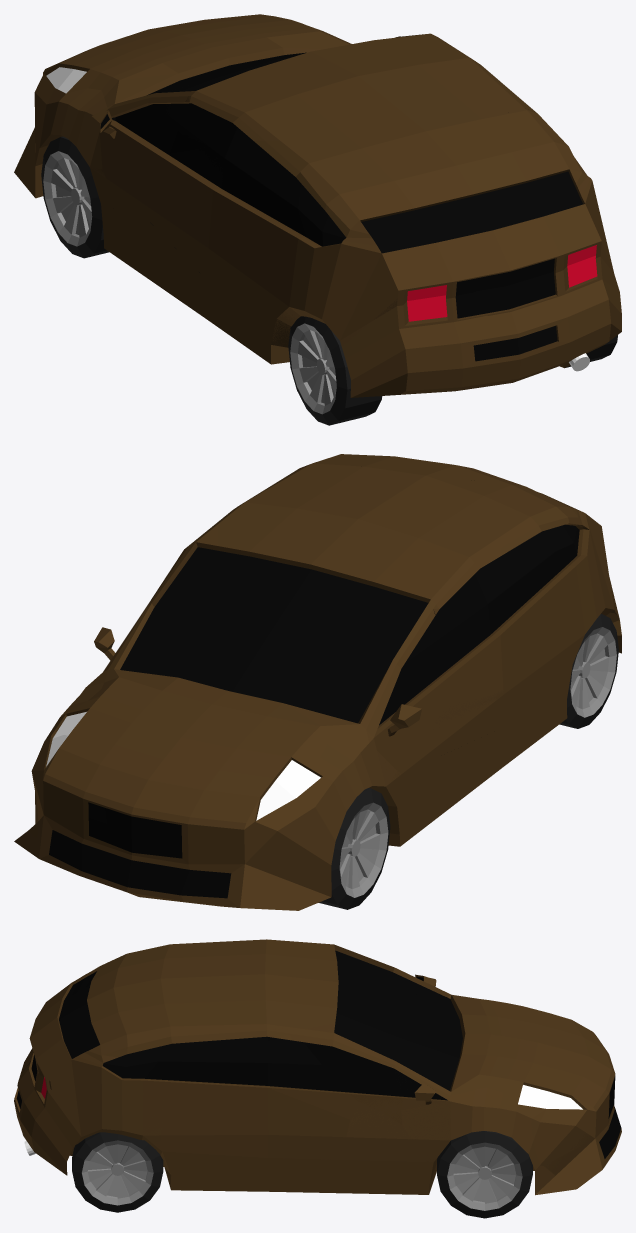
File: slowBroken.fbx
The picture shows the model from 3 angles, top to bottom: view 1: azimuth 30°, elevation 25°; view 2: azimuth 150°, elevation 25°; view 3: azimuth 270°, elevation 25°; orthographic projection. The views are drawn at different scales.
Parts seen in each view (by area): view 1: Cube.012, Cube.012_cell.005, Cube.012_cell.007, Cube.012_cell.015, Cube.012_cell.016, Cube.002, Cube.003, Cube.012_cell.009, Cube.012_cell.017, Cube.012_cell.011, Cube.012_cell.018; view 2: Cube.012, Cube.012_cell.005, Cube.012_cell.015, Cube.012_cell.002, Cube.012_cell.009, Cube.003, Cube.012_cell.011, Cube.002, Cube.012_cell.018, Cube.012_cell, Cube.012_cell.016; view 3: Cube.012, Cube.012_cell.005, Cube.004, Cube.005, Cube.012_cell.002, Cube.012_cell.008, Cube.012_cell.009, Cube.012_cell, Cube.012_cell.013, Cube.012_cell.017, Cube.012_cell.016, Cube.012_cell.018 (+1 smaller).
Boxes of the visible parts, <box> form: Cube.012: <box>34,16,621,397</box>; Cube.012_cell.005: <box>14,16,351,232</box>; Cube.012_cell.007: <box>344,292,518,397</box>; Cube.012_cell.015: <box>128,140,412,345</box>; Cube.012_cell.016: <box>388,110,581,296</box>; Cube.002: <box>288,316,382,425</box>; Cube.003: <box>41,136,109,258</box>; Cube.012_cell.009: <box>170,36,533,153</box>; Cube.012_cell.017: <box>476,163,621,378</box>; Cube.012_cell.011: <box>106,205,279,363</box>; Cube.012_cell.018: <box>105,79,213,156</box>; Cube.012: <box>29,454,621,910</box>; Cube.012_cell.005: <box>28,565,411,910</box>; Cube.012_cell.015: <box>423,479,615,763</box>; Cube.012_cell.002: <box>14,729,100,870</box>; Cube.012_cell.009: <box>218,465,501,681</box>; Cube.003: <box>318,788,390,909</box>; Cube.012_cell.011: <box>402,703,565,831</box>; Cube.002: <box>559,614,618,728</box>; Cube.012_cell.018: <box>331,609,440,742</box>; Cube.012_cell: <box>146,523,220,607</box>; Cube.012_cell.016: <box>313,454,525,486</box>; Cube.012: <box>14,939,621,1194</box>; Cube.012_cell.005: <box>346,993,616,1195</box>; Cube.004: <box>437,1131,532,1218</box>; Cube.005: <box>72,1132,163,1212</box>; Cube.012_cell.002: <box>531,1082,613,1192</box>; Cube.012_cell.008: <box>162,1035,350,1192</box>; Cube.012_cell.009: <box>163,944,378,1060</box>; Cube.012_cell: <box>290,1023,402,1124</box>; Cube.012_cell.013: <box>318,1092,432,1194</box>; Cube.012_cell.017: <box>15,1049,170,1175</box>; Cube.012_cell.016: <box>29,969,176,1064</box>; Cube.012_cell.018: <box>342,947,451,996</box>.
Size of the model in its own units: 195 by 144 by 416.
